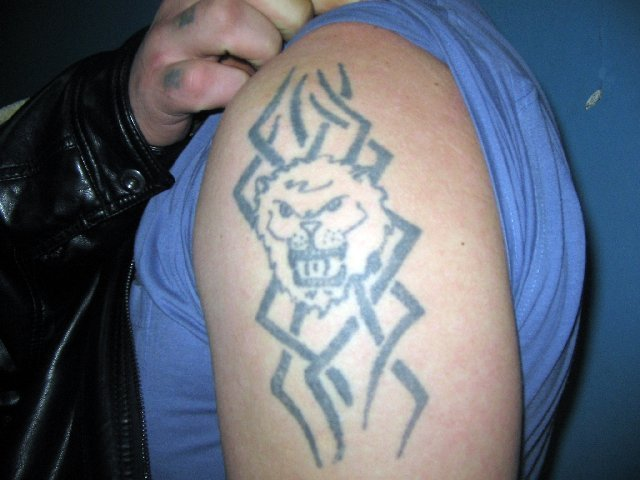tatu5_tigr: (249, 157, 397, 319)
